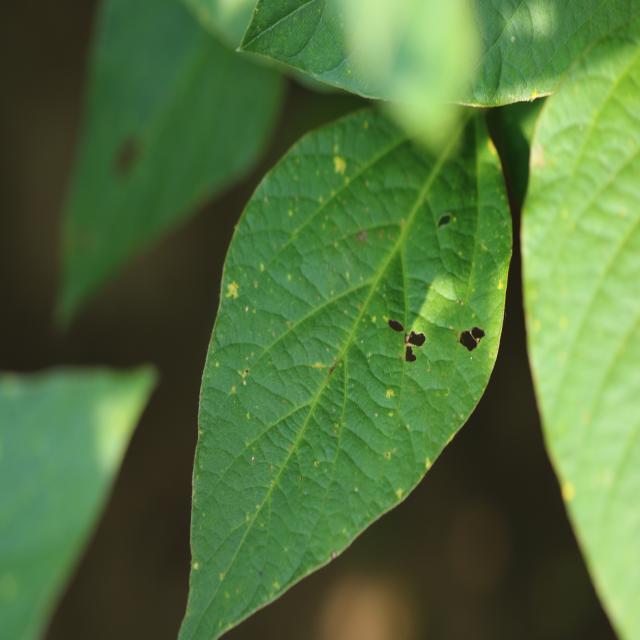Soybean: (172, 101, 538, 640)
downey_mildew: (240, 138, 410, 333), (464, 172, 565, 484), (67, 4, 214, 187), (179, 462, 297, 633), (381, 253, 481, 452), (561, 397, 640, 637), (0, 364, 154, 484), (267, 281, 347, 460), (566, 302, 640, 491), (205, 360, 302, 490), (0, 391, 75, 549), (312, 325, 361, 558), (227, 232, 332, 333), (261, 76, 380, 161), (460, 2, 562, 100), (332, 451, 435, 548), (517, 533, 610, 636), (190, 303, 223, 589), (555, 163, 640, 273), (266, 416, 339, 542), (53, 221, 116, 334), (240, 194, 328, 265), (485, 98, 537, 212), (2, 362, 147, 402), (555, 1, 639, 69), (334, 32, 407, 100), (350, 0, 421, 68), (468, 198, 511, 306), (255, 322, 325, 386), (244, 1, 322, 56), (340, 186, 417, 239), (295, 4, 347, 71), (545, 121, 600, 178), (477, 271, 511, 354), (207, 361, 248, 427), (262, 192, 343, 224), (467, 2, 511, 57), (523, 2, 559, 44), (482, 45, 503, 97), (115, 137, 141, 174), (241, 12, 264, 46), (0, 571, 19, 601), (229, 385, 237, 395)
